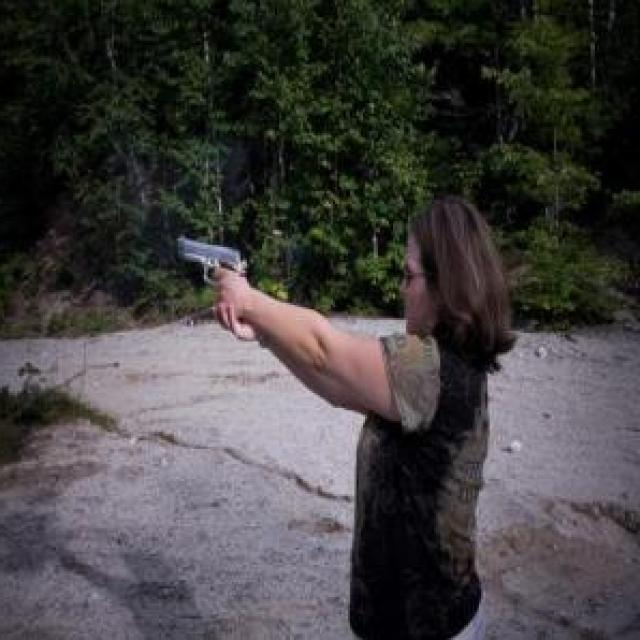pistol: (175, 236, 245, 290)
